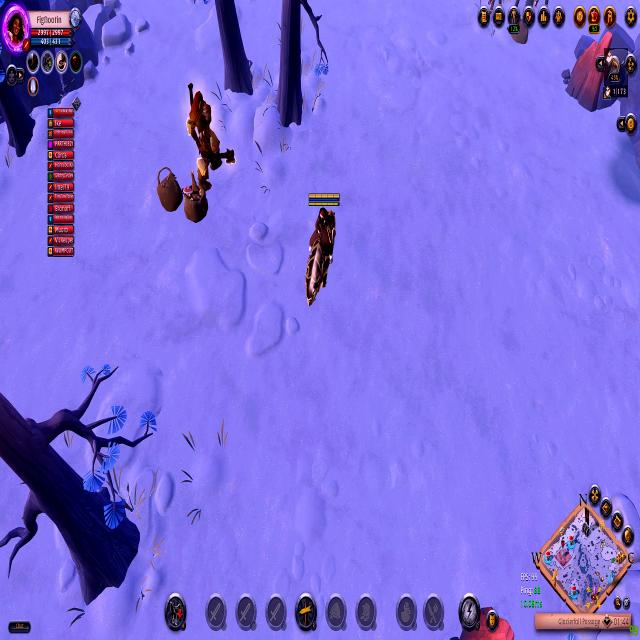ore: (182, 78, 236, 192)
red: (298, 182, 350, 316)
tree: (563, 24, 620, 120), (452, 600, 516, 640)
